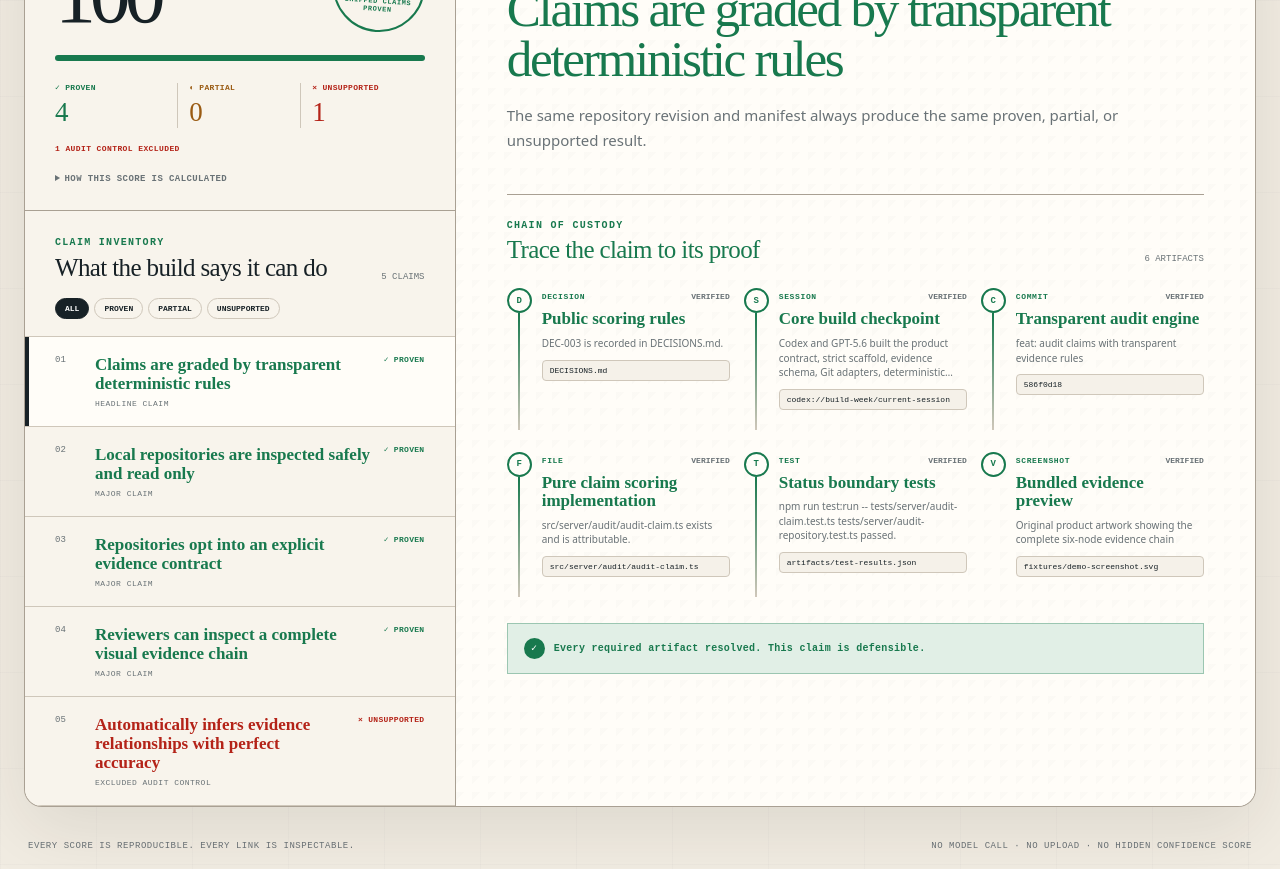
Scenario: Claim to Commit workbench › turns unsupported confidence into an explicit audit finding
This screenshot has width=1280, height=869.
(page scrolled)
Expected: the progress indicator "100%" is shown, left=55, top=54, right=424, bottom=60
Click the button "Automatically infers evidence relationships with perfect accuracy" at x=240, y=752, box left=25, top=697, right=454, bottom=806
(page scrolled)
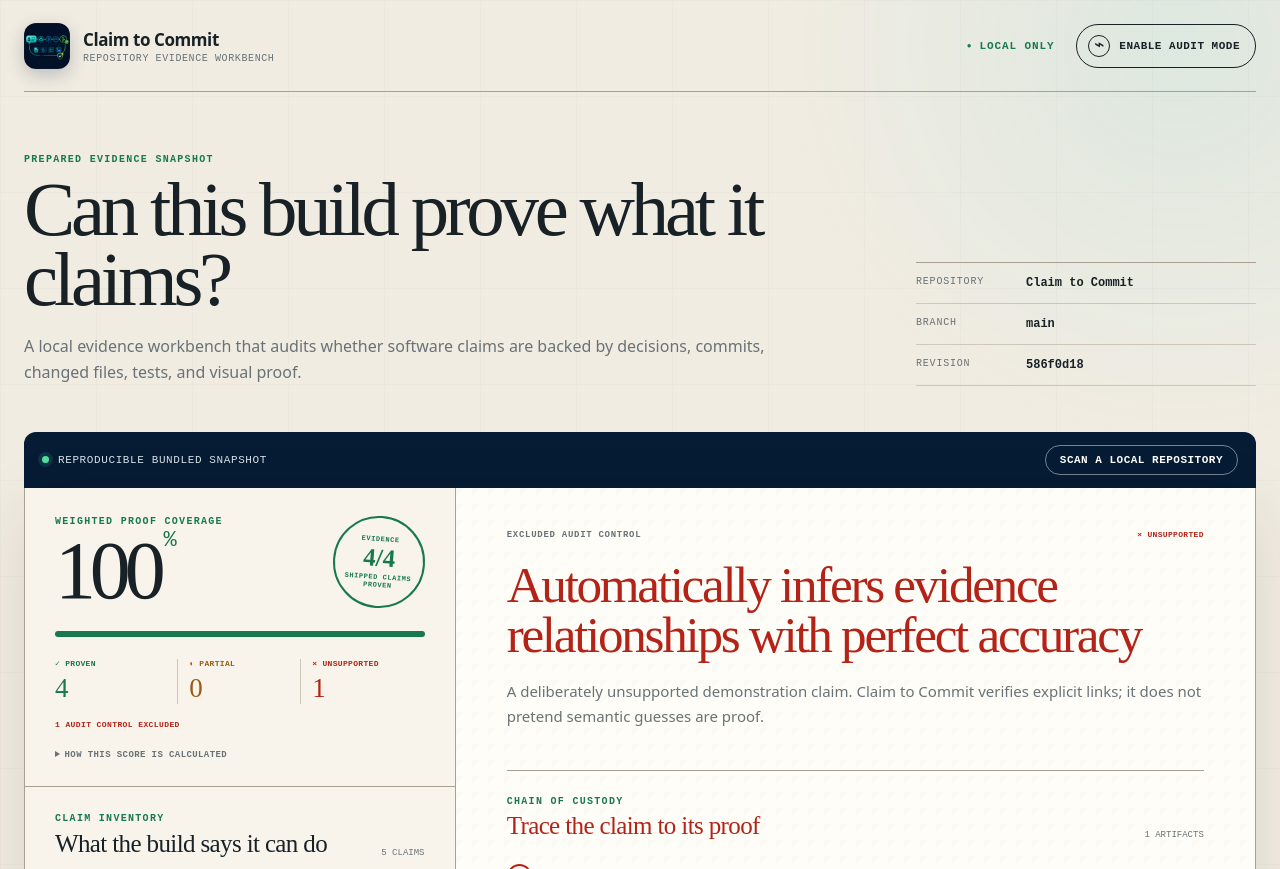
Click the button "⌁ Enable Audit Mode" at x=1166, y=46, box left=1076, top=24, right=1256, bottom=68
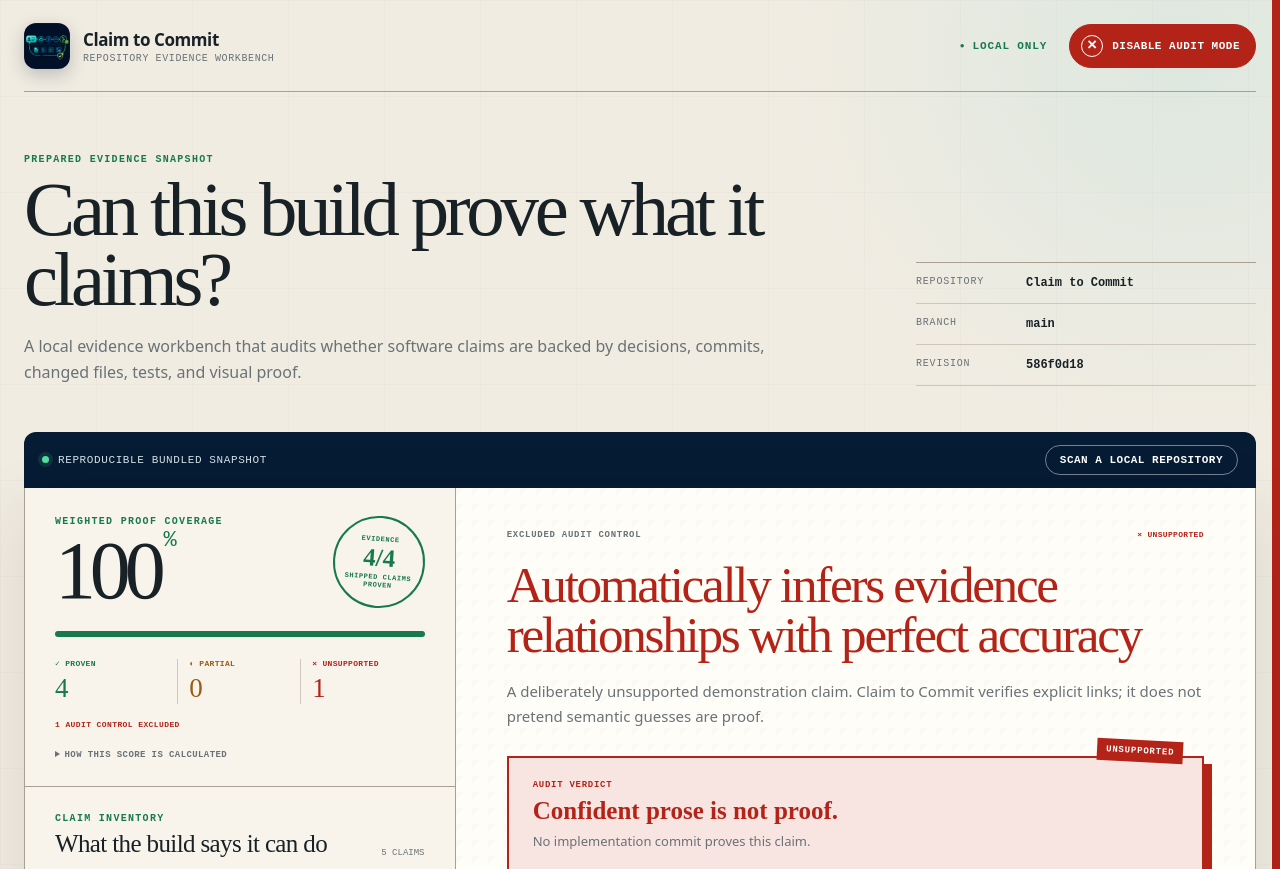
Now the message shows "No implementation commit proves this claim.", box left=533, top=832, right=810, bottom=850
Now the text "Confident prose is not proof." is shown, box left=533, top=797, right=838, bottom=824
